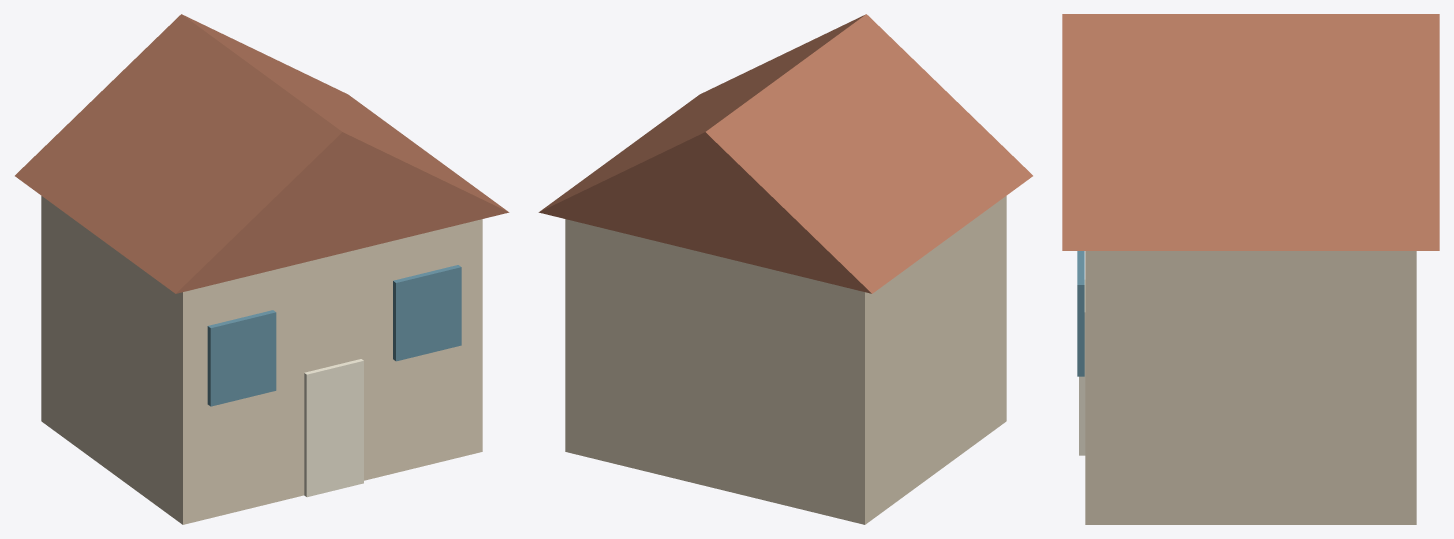
File: house.gltf
The picture shows the model from 3 angles, left to right: view 1: azimuth 30°, elevation 25°; view 2: azimuth 150°, elevation 25°; view 3: azimuth 270°, elevation 25°; orthographic projection. The views are drawn at different scales.
Visible parts, largest first — view 1: house_building; view 2: house_building; view 3: house_building.
Boxes of the visible parts, x1=… form: house_building: x1=15, y1=14, x2=509, y2=524; house_building: x1=538, y1=14, x2=1032, y2=524; house_building: x1=1062, y1=14, x2=1439, y2=524.
Size of the model in its own units: 2.45 by 2.55 by 2.05.
